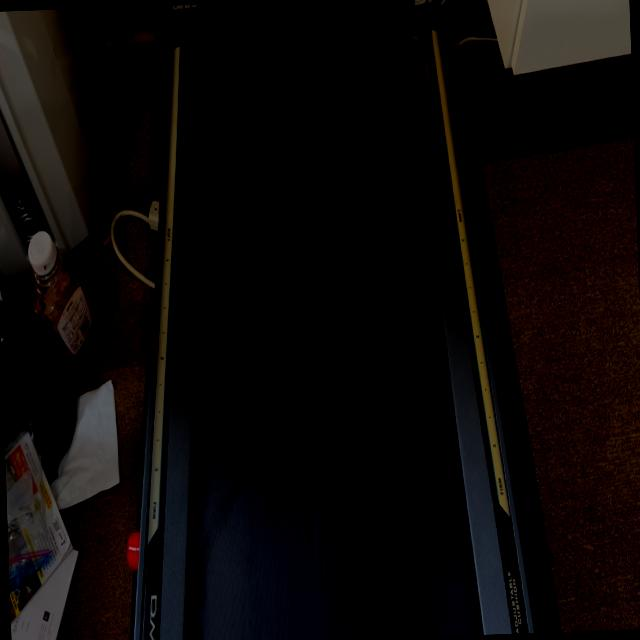Trash: (248, 28, 362, 118)
